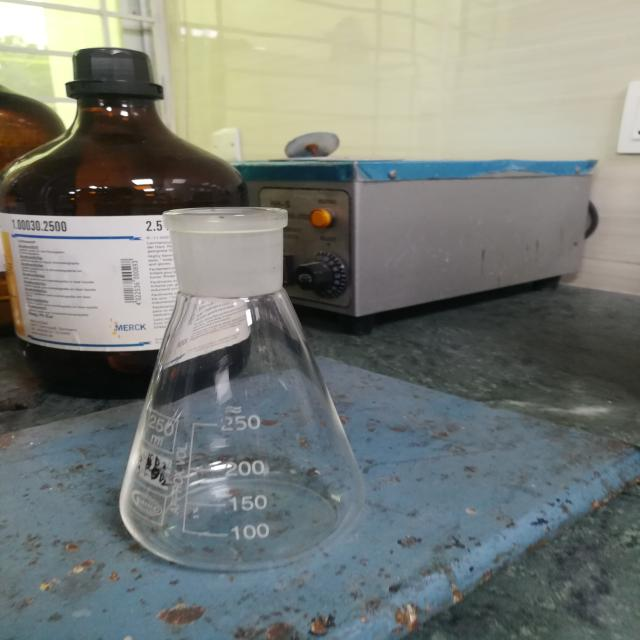Conical_Flask: (93, 158, 401, 599)
